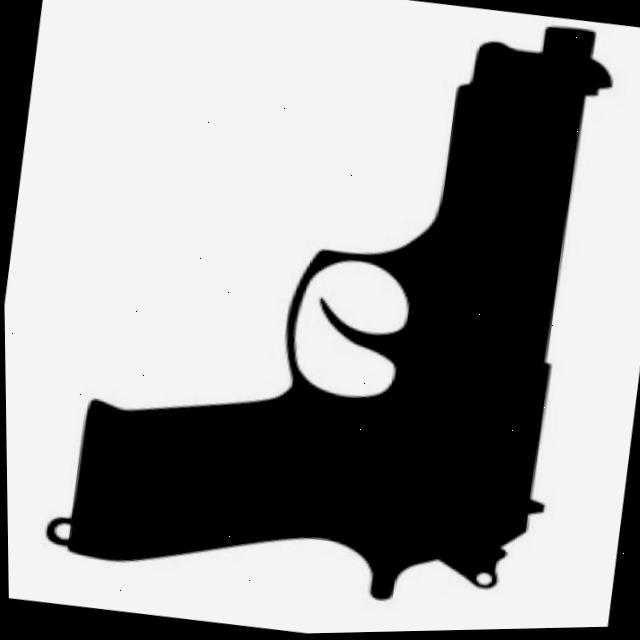gun: (32, 0, 626, 633)
